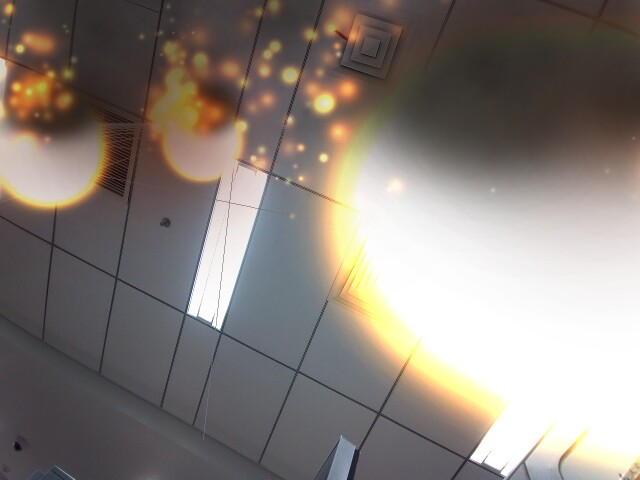fire: (316, 19, 628, 472), (3, 81, 110, 212), (161, 97, 245, 185)
